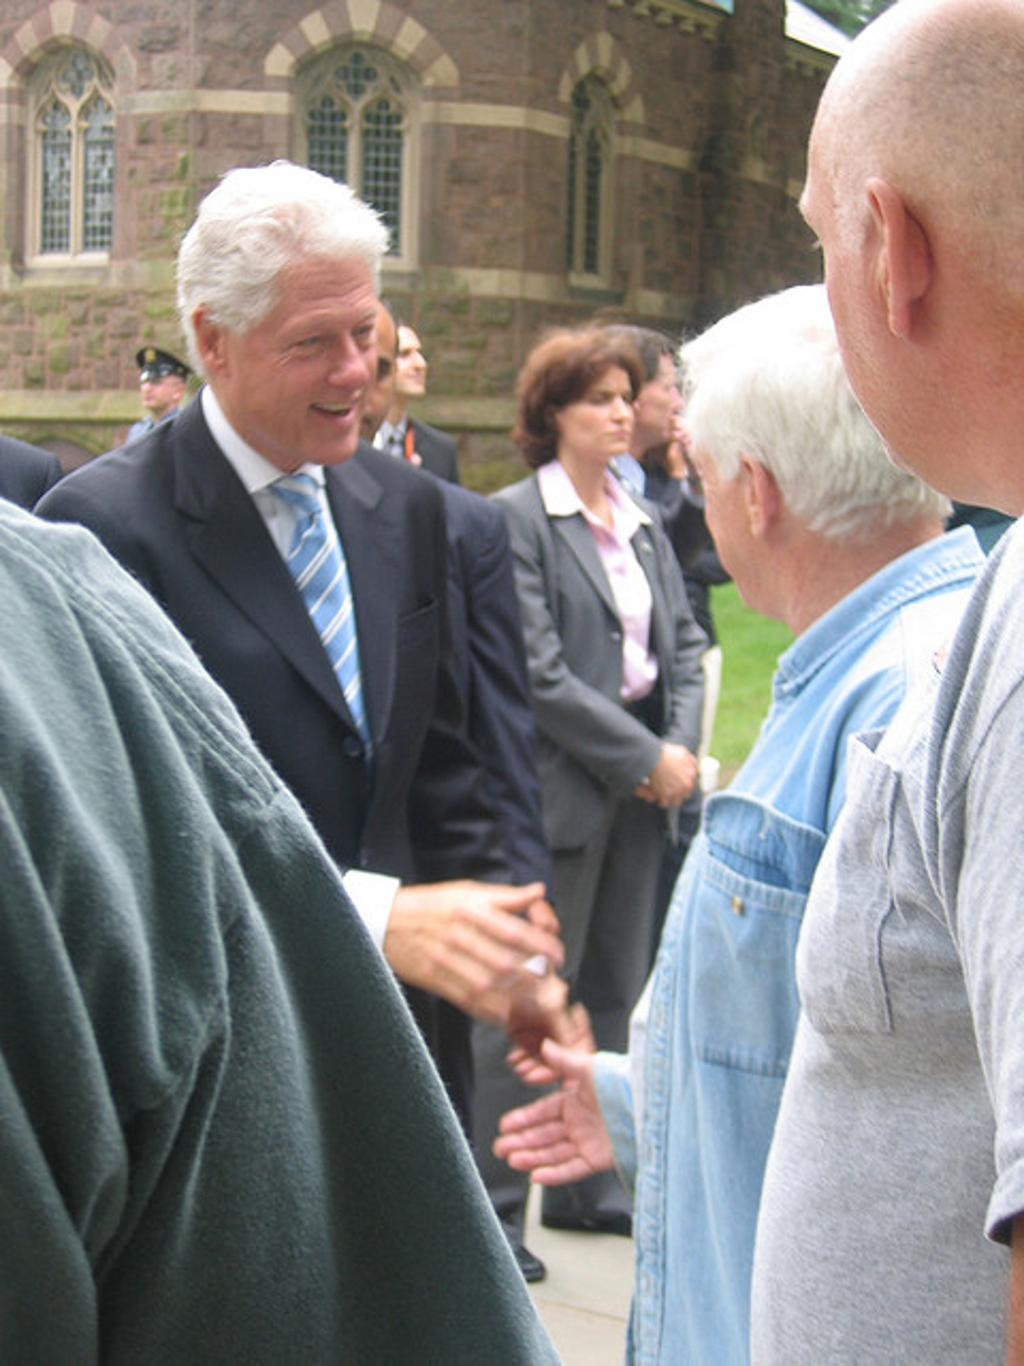face: (786, 149, 966, 507), (236, 297, 375, 457), (686, 419, 780, 612), (309, 321, 396, 461), (559, 367, 632, 452), (629, 354, 681, 447), (393, 335, 428, 396), (137, 369, 173, 407)
